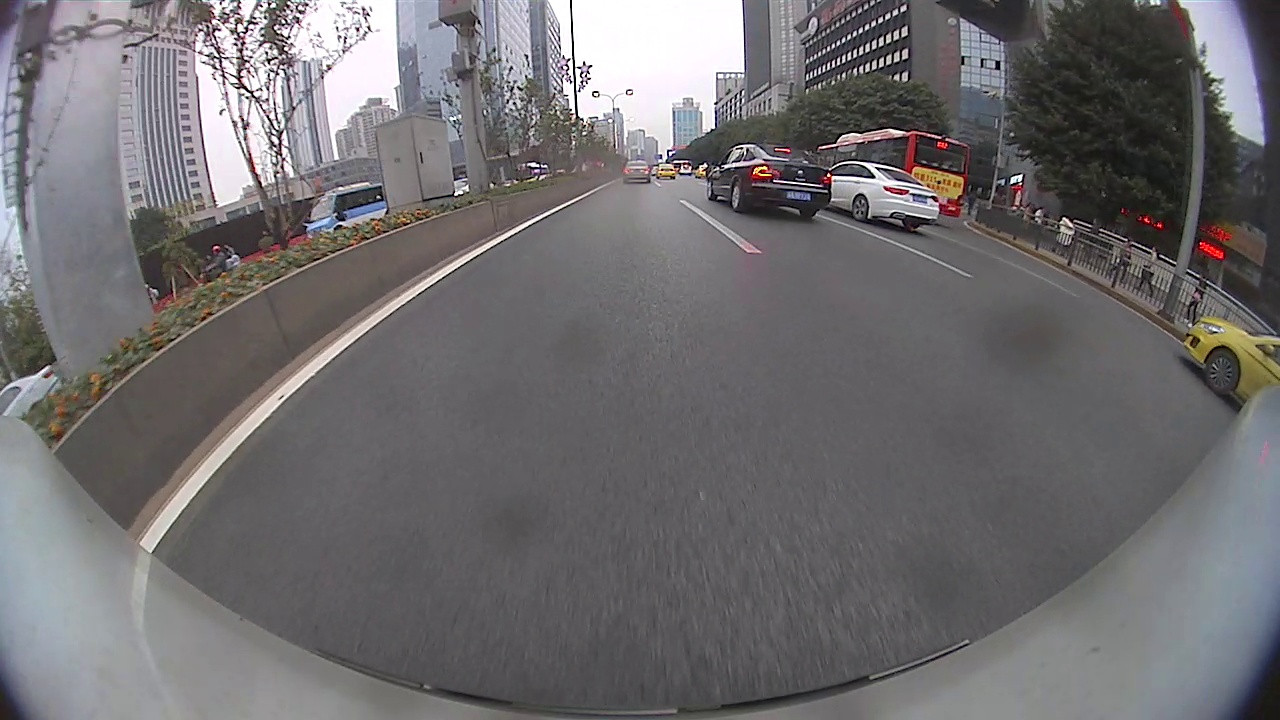bus: (813, 126, 971, 220), (302, 179, 385, 238), (513, 159, 553, 184)
car: (704, 141, 834, 221), (1177, 312, 1279, 412), (830, 157, 943, 231), (2, 361, 68, 425), (621, 157, 653, 183), (655, 162, 678, 180)
front: (1204, 347, 1241, 396), (704, 178, 715, 200)
person: (1188, 270, 1209, 328), (1059, 214, 1075, 258), (1148, 245, 1161, 298), (1121, 236, 1134, 288)
rear: (729, 182, 746, 212), (851, 194, 868, 224)
rider: (192, 243, 245, 291)
